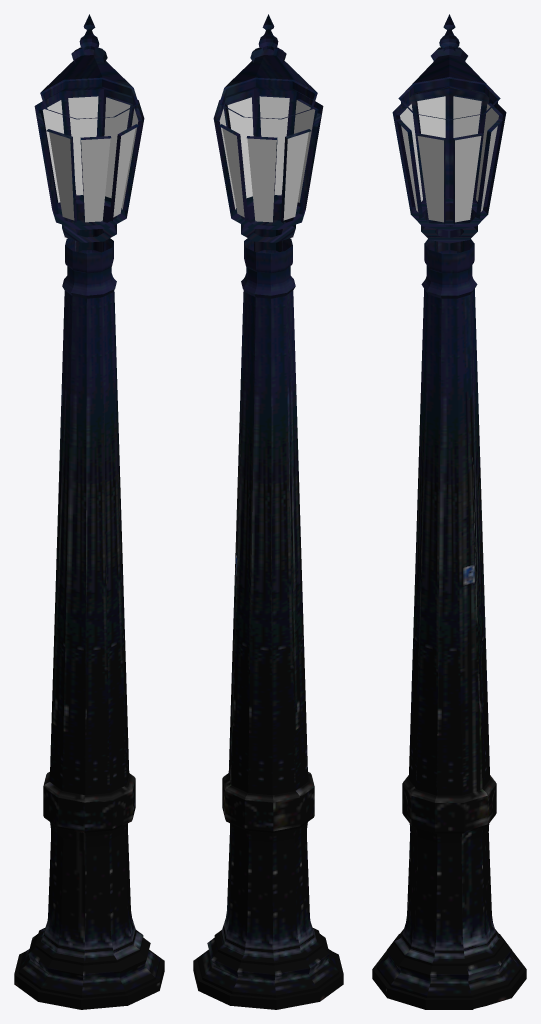
The model's file is Foral Colonial_wiht_Emission.fbx.
The picture shows the model from 3 angles, left to right: view 1: azimuth 30°, elevation 25°; view 2: azimuth 150°, elevation 25°; view 3: azimuth 270°, elevation 25°; orthographic projection.
Parts seen in each view (by area): view 1: Farol colonial; view 2: Farol colonial; view 3: Farol colonial.
Part boxes in pixels (x1=…): Farol colonial: x1=14, y1=14, x2=164, y2=1009; Farol colonial: x1=193, y1=14, x2=343, y2=1009; Farol colonial: x1=372, y1=14, x2=526, y2=1009.
Bounding box in the file's own units: 1.02 × 7.43 × 1.07.
